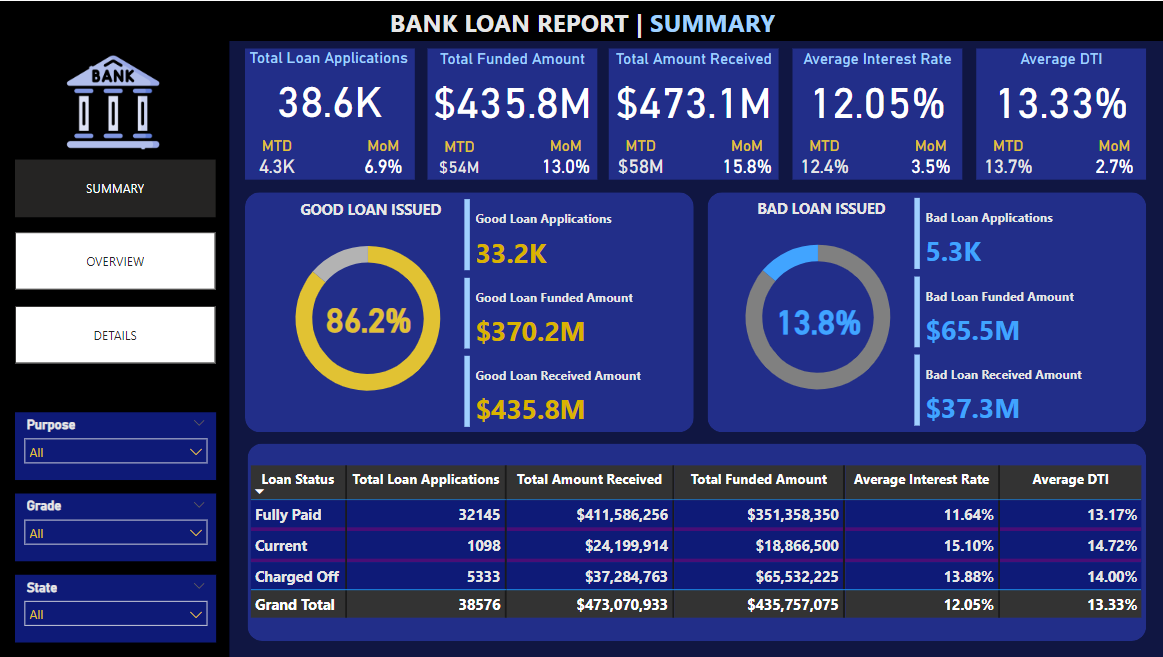

The dashboard page shown, as its layout file describes it:
{"tool":"powerbi","page":{"name":"SUMMARY","canvas":[1280,720],"ordinal":0},"visuals":[{"type":"shape","box":[271.7,485.8,986.6,216.8],"z":0},{"type":"shape","box":[0,0,1280.3,43.9],"z":1000},{"type":"shape","box":[0,43.9,252,676.5],"z":2000},{"type":"textbox","box":[403.4,0,472,54.9],"z":3000},{"type":"shape","box":[269.5,52.7,186.6,144.1],"z":4000},{"type":"shape","box":[469.8,52.7,186.6,144.1],"z":5000},{"type":"shape","box":[668.8,52.7,186.6,144.1],"z":6000},{"type":"shape","box":[870.5,52.7,186.6,144.1],"z":7000},{"type":"shape","box":[1072.3,52.7,186.6,144.1],"z":8000},{"type":"card","title":"Total Loan Applications","fields":{"Values":["CountNonNull(bank_loan_data.id)"]},"box":[269.5,52.7,186.6,87.8],"z":9000},{"type":"card","title":"Total Amount Received ","fields":{"Values":["Sum(bank_loan_data.total_payment)"]},"box":[668.8,54.1,186.6,86.4],"z":10000},{"type":"card","title":"Average Interest Rate","fields":{"Values":["Avg(bank_loan_data.int_rate)"]},"box":[870.5,54.1,186.6,86.4],"z":11000},{"type":"card","title":"Average DTI","fields":{"Values":["Avg(bank_loan_data.dti)"]},"box":[1072.3,54.1,186.6,86.4],"z":12000},{"type":"card","title":"MTD","fields":{"Values":["bank_loan_data.MTD Loan Applications"]},"box":[269.5,148.7,70,48],"z":13000},{"type":"card","title":"MoM","fields":{"Values":["bank_loan_data.MoM Loan Applications"]},"box":[386.1,148.7,70,48],"z":14000},{"type":"card","title":"Total Funded Amount","fields":{"Values":["Sum(bank_loan_data.loan_amount)"]},"box":[469.8,54.1,186.6,86.4],"z":15000},{"type":"card","title":"MTD","fields":{"Values":["bank_loan_data.MTD Funded Amount"]},"box":[469.8,150.1,70,48],"z":16000},{"type":"card","title":"MTD","fields":{"Values":["bank_loan_data.MTD Amount Received"]},"box":[668.8,148.7,70,48],"z":17000},{"type":"card","title":"MTD","fields":{"Values":["bank_loan_data.MTD Avg Interest Rate"]},"box":[870.5,148.7,70,48],"z":18000},{"type":"card","title":"MTD","fields":{"Values":["bank_loan_data.MTD Average DTI"]},"box":[1072.3,148.7,70,48],"z":19000},{"type":"card","title":"MoM","fields":{"Values":["bank_loan_data.MoM Total Funded Amount"]},"box":[586.5,148.7,70,48],"z":20000},{"type":"card","title":"MoM","fields":{"Values":["bank_loan_data.MoM Amount Received"]},"box":[785.5,148.7,70,48],"z":21000},{"type":"card","title":"MoM","fields":{"Values":["bank_loan_data.MoM Average Interest Rate"]},"box":[987.2,148.7,70,48],"z":22000},{"type":"card","title":"MoM","fields":{"Values":["bank_loan_data.MoM Average DTI"]},"box":[1188.9,148.7,70,48],"z":23000},{"type":"shape","box":[777.2,210.5,481.6,263.5],"z":24000},{"type":"shape","box":[269.5,210.5,492.6,263.5],"z":25000},{"type":"donutChart","fields":{"Category":["bank_loan_data.Good v Bad Loans"],"Y":["CountNonNull(bank_loan_data.id)"]},"box":[269.5,244.8,270.3,208.6],"z":26000},{"type":"card","title":"Average Interest Rate","fields":{"Values":["bank_loan_data.Good Loan%"]},"box":[335.4,313.4,140,70],"z":27000},{"type":"textbox","box":[308.7,212.7,196.2,31.6],"z":28000},{"type":"cardVisual","fields":{"Data":["bank_loan_data.Good Loan Applications","bank_loan_data.Good Loan Funded Amount","bank_loan_data.Good Loan Received Amount"]},"box":[505.5,213.2,256.6,260.7],"z":29000},{"type":"donutChart","fields":{"Category":["bank_loan_data.Good v Bad Loans"],"Y":["CountNonNull(bank_loan_data.id)"]},"box":[763.6,242.7,270.3,208.6],"z":30000},{"type":"textbox","box":[817.1,211.2,170.2,31.6],"z":31000},{"type":"cardVisual","fields":{"Data":["bank_loan_data.Bad Loan Applications","bank_loan_data.Bad Loan Funded Amount","bank_loan_data.Bad Loan Received Amount"]},"box":[999.6,211.2,256.6,260.7],"z":32000},{"type":"card","title":"Average Interest Rate","fields":{"Values":["bank_loan_data.Bad Loan%"]},"box":[828.8,314.2,140,70],"z":33000},{"type":"tableEx","fields":{"Values":["bank_loan_data.loan_status","CountNonNull(bank_loan_data.id)","Sum(bank_loan_data.total_payment)","Sum(bank_loan_data.loan_amount)","Avg(bank_loan_data.int_rate)","Avg(bank_loan_data.dti)"]},"box":[269,505,989.4,177],"z":34000},{"type":"slicer","fields":{"Values":["bank_loan_data.address_state"]},"box":[16.5,630.4,220.9,74.1],"z":35000},{"type":"slicer","fields":{"Values":["bank_loan_data.grade"]},"box":[16.5,541.2,220.9,74.1],"z":36000},{"type":"slicer","fields":{"Values":["bank_loan_data.purpose"]},"box":[16.5,452,220.9,74.1],"z":37000},{"type":"pageNavigator","box":[16.5,174.8,220.9,63.1],"z":38000},{"type":"pageNavigator","box":[16.5,254.4,220.9,63.1],"z":39000},{"type":"pageNavigator","box":[16.5,335.4,220.9,63.1],"z":40000},{"type":"image","box":[65.9,52.1,116.6,116.6],"z":40001}]}

Visuals, with their boxes in screenshot pixels (x1, y1, x2, y2), scaled from the page's 1280x720 canvas onto the 1163x657 screenshot:
shape: <box>247,443,1143,641</box>
shape: <box>0,0,1162,40</box>
shape: <box>0,40,229,656</box>
textbox: <box>367,0,795,50</box>
shape: <box>245,48,414,180</box>
shape: <box>427,48,596,180</box>
shape: <box>608,48,777,180</box>
shape: <box>791,48,960,180</box>
shape: <box>974,48,1144,180</box>
"Total Loan Applications" card: <box>245,48,414,128</box>
"Total Amount Received " card: <box>608,49,777,128</box>
"Average Interest Rate" card: <box>791,49,960,128</box>
"Average DTI" card: <box>974,49,1144,128</box>
"MTD" card: <box>245,136,308,179</box>
"MoM" card: <box>351,136,414,179</box>
"Total Funded Amount" card: <box>427,49,596,128</box>
"MTD" card: <box>427,137,490,181</box>
"MTD" card: <box>608,136,671,179</box>
"MTD" card: <box>791,136,855,179</box>
"MTD" card: <box>974,136,1038,179</box>
"MoM" card: <box>533,136,596,179</box>
"MoM" card: <box>714,136,777,179</box>
"MoM" card: <box>897,136,961,179</box>
"MoM" card: <box>1080,136,1144,179</box>
shape: <box>706,192,1144,433</box>
shape: <box>245,192,692,433</box>
donutChart - bank_loan_data.Good v Bad Loans x CountNonNull(bank_loan_data.id): <box>245,223,490,414</box>
"Average Interest Rate" card: <box>305,286,432,350</box>
textbox: <box>280,194,459,223</box>
cardVisual - bank_loan_data.Good Loan Applications x bank_loan_data.Good Loan Funded Amount: <box>459,195,692,432</box>
donutChart - bank_loan_data.Good v Bad Loans x CountNonNull(bank_loan_data.id): <box>694,221,939,412</box>
textbox: <box>742,193,897,222</box>
cardVisual - bank_loan_data.Bad Loan Applications x bank_loan_data.Bad Loan Funded Amount: <box>908,193,1141,431</box>
"Average Interest Rate" card: <box>753,287,880,351</box>
tableEx - bank_loan_data.loan_status x CountNonNull(bank_loan_data.id): <box>244,461,1143,622</box>
slicer - bank_loan_data.address_state: <box>15,575,216,643</box>
slicer - bank_loan_data.grade: <box>15,494,216,561</box>
slicer - bank_loan_data.purpose: <box>15,412,216,480</box>
pageNavigator: <box>15,160,216,217</box>
pageNavigator: <box>15,232,216,290</box>
pageNavigator: <box>15,306,216,364</box>
image: <box>60,48,166,154</box>
